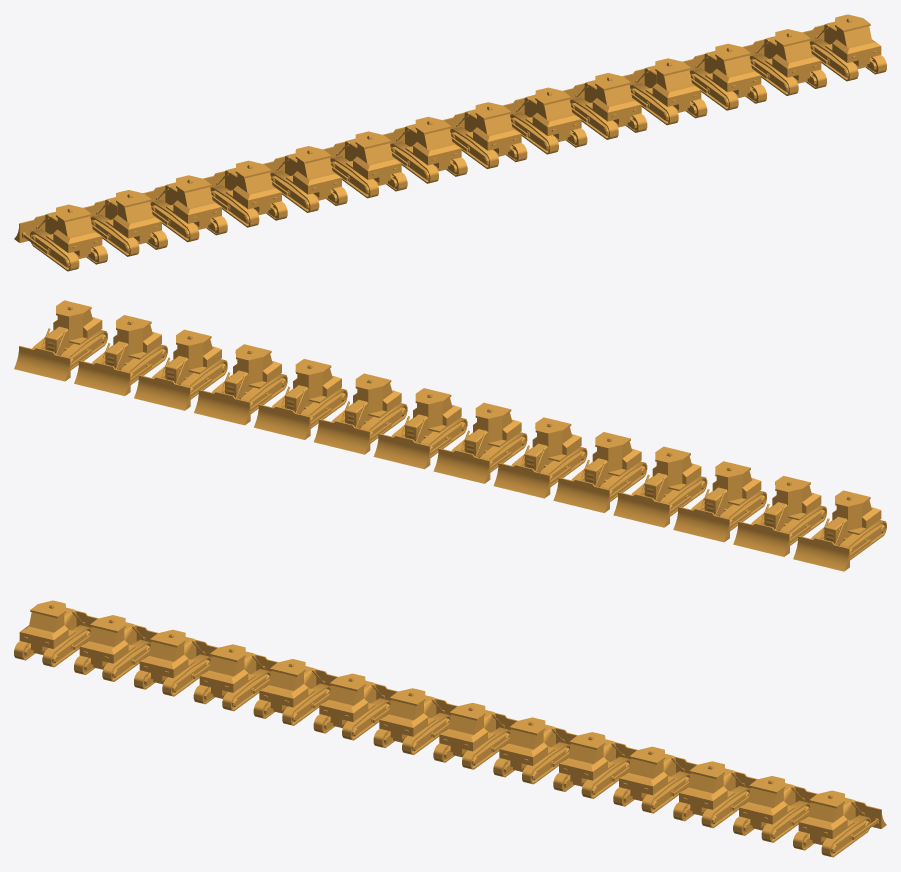
File: 14bulldozers.fbx
The picture shows the model from 3 angles, top to bottom: view 1: azimuth 30°, elevation 25°; view 2: azimuth 150°, elevation 25°; view 3: azimuth 330°, elevation 25°; orthographic projection.
Visible parts, largest first — view 1: 14bulldozers; view 2: 14bulldozers; view 3: 14bulldozers.
Boxes of the visible parts, box(x1,y1,x2,y2) form: 14bulldozers: box(14, 14, 886, 271); 14bulldozers: box(14, 300, 886, 571); 14bulldozers: box(14, 600, 886, 857).
Bounding box in the file's own units: 4704 × 251 × 488.
